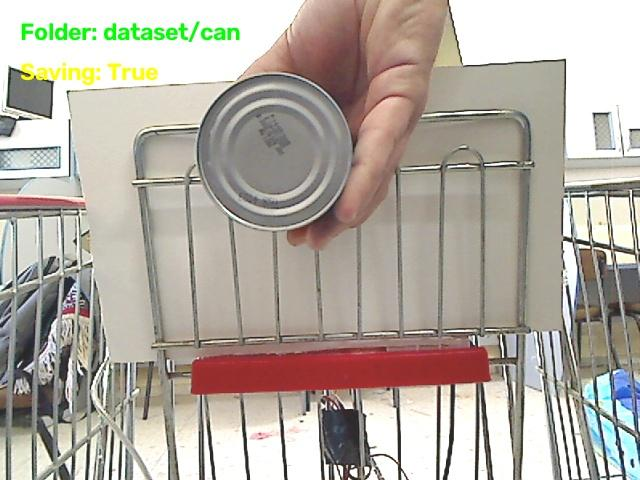can: (197, 73, 352, 230)
